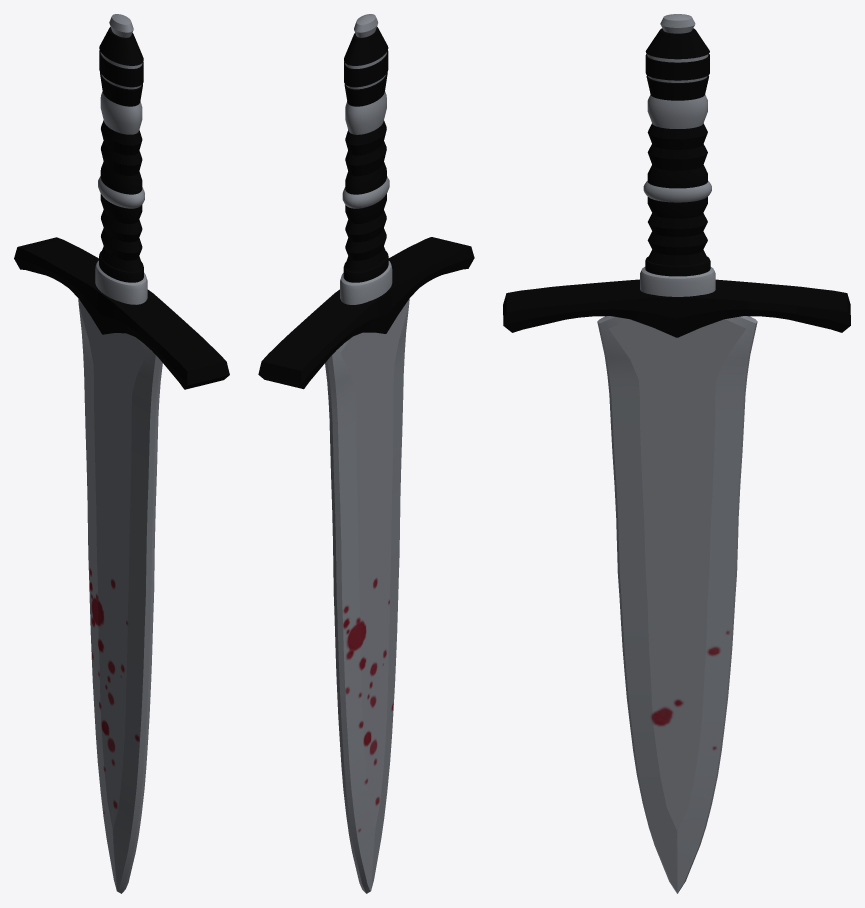
Rendered from F_Dagger.fbx.
3 renders of one model, left to right at view 1: azimuth 30°, elevation 25°; view 2: azimuth 150°, elevation 25°; view 3: azimuth 270°, elevation 25°, orthographic.
Parts seen in each view (by area): view 1: F_Dagger; view 2: F_Dagger; view 3: F_Dagger.
Part boxes in pixels (box(x1,y1,x2,y2)): F_Dagger: box(14, 14, 229, 893); F_Dagger: box(258, 14, 474, 893); F_Dagger: box(503, 14, 850, 893).
Size of the model in its own units: 1.7 by 33.29 by 11.93.
